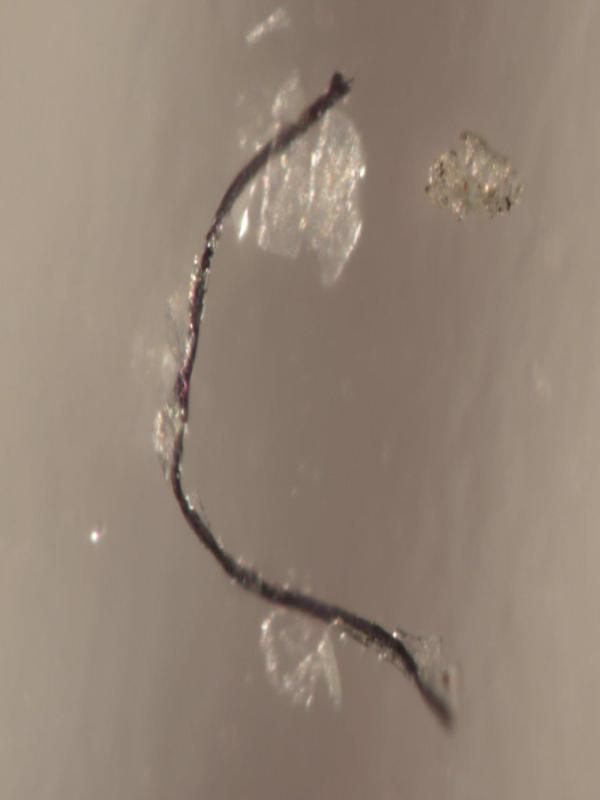microplastic: (154, 67, 459, 729), (424, 127, 523, 223)
